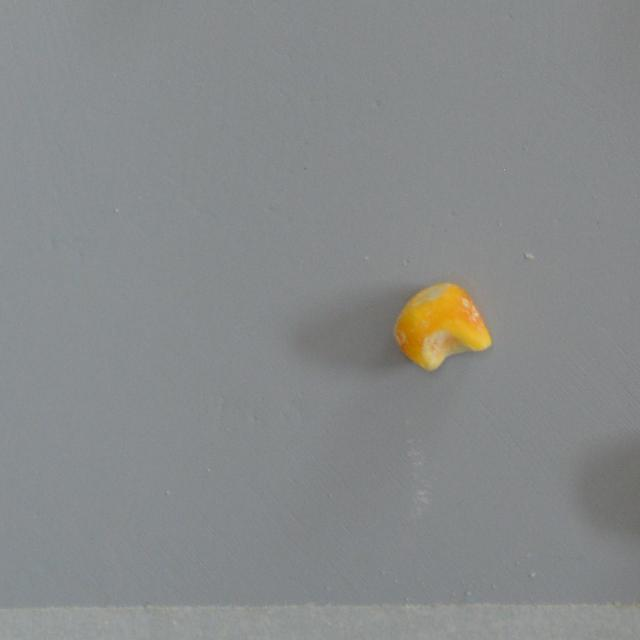dañado: (386, 276, 498, 375)
